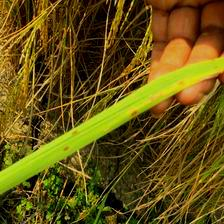0 BrownSpot: (174, 77, 186, 87), (71, 128, 79, 136), (60, 145, 70, 151), (129, 111, 139, 116)
